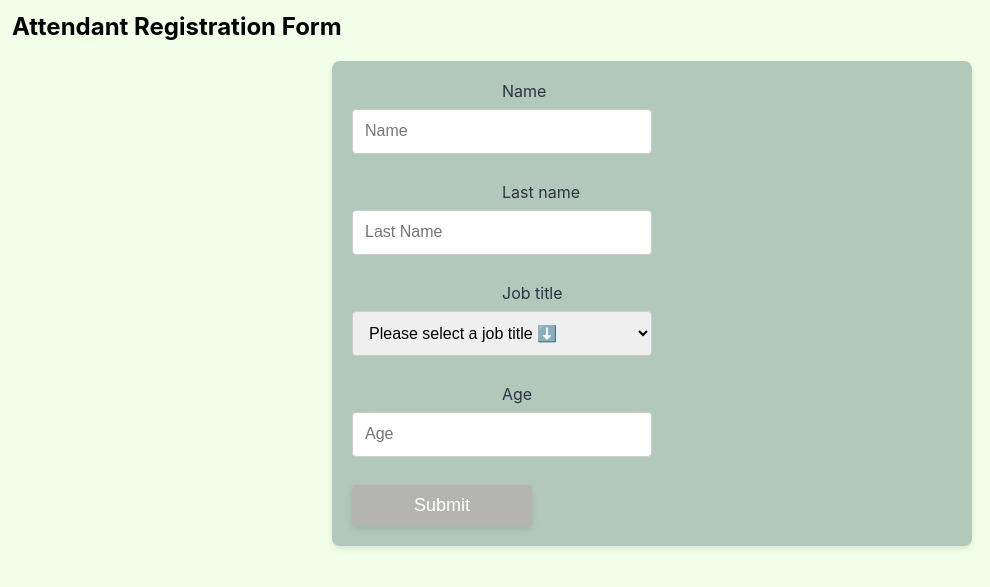
Test case: <AttendantForm /> › shows validation for empty job title when clicking outside
The image size is (990, 587).
Click the number field with placeholder "Age": (502, 434) x1=352 y1=412 x2=652 y2=457
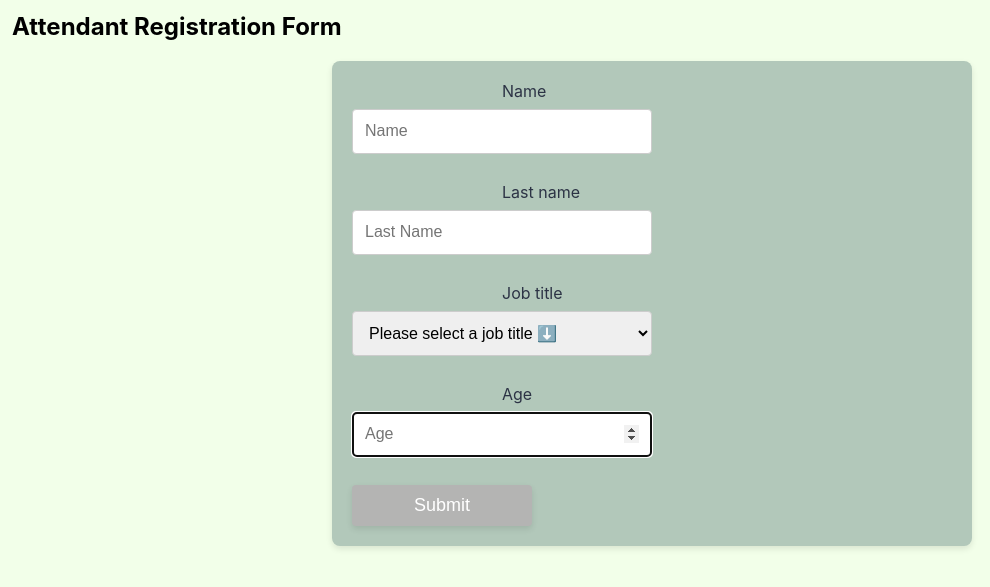
Click the field with placeholder "Last Name": (502, 232) x1=352 y1=210 x2=652 y2=255
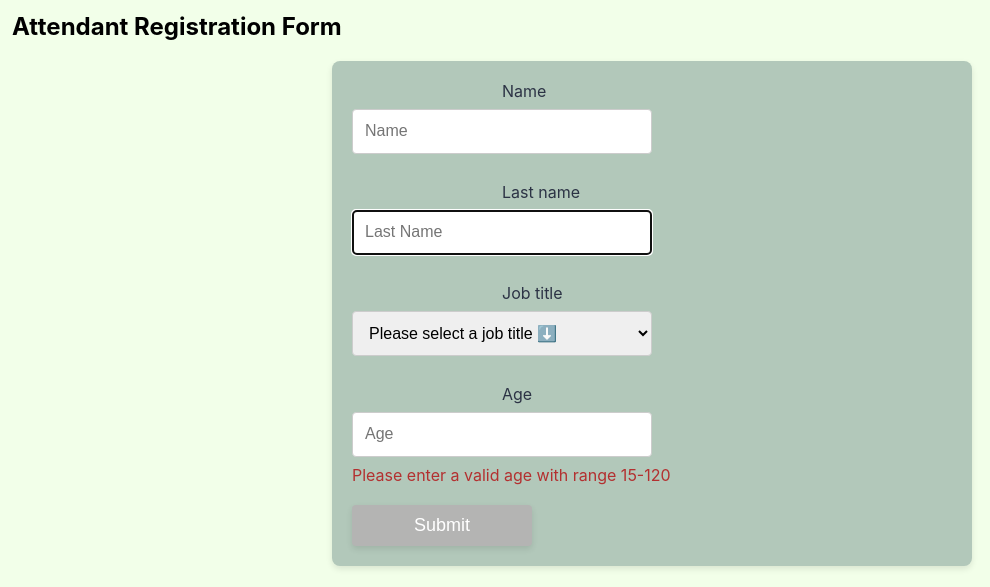
Expected: the text "Please enter a valid age with range 15-120" is shown, x1=352 y1=465 x2=671 y2=485
